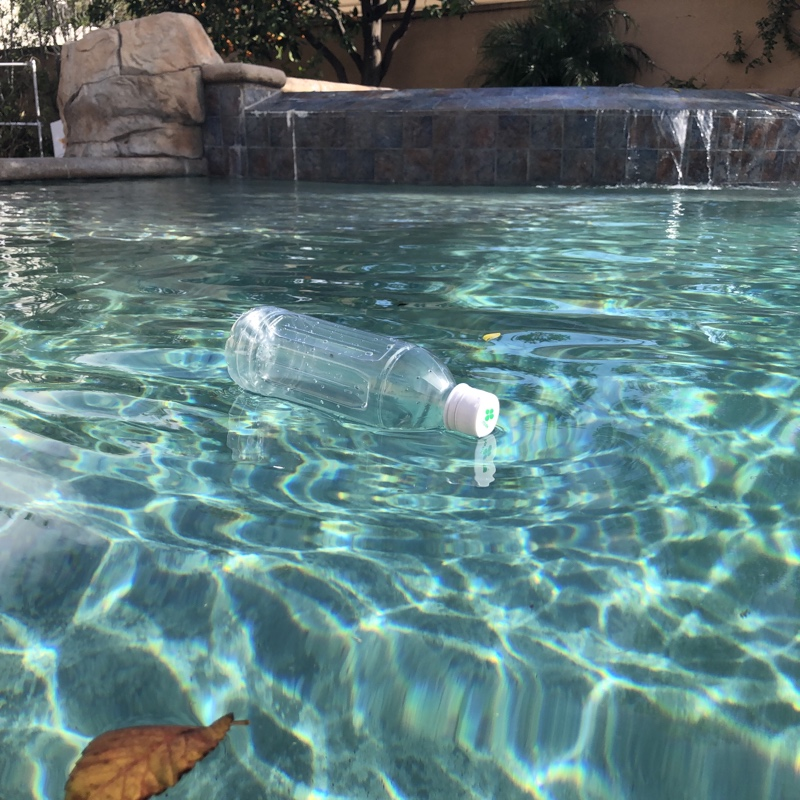Plastic Bottle: (223, 300, 502, 441)
